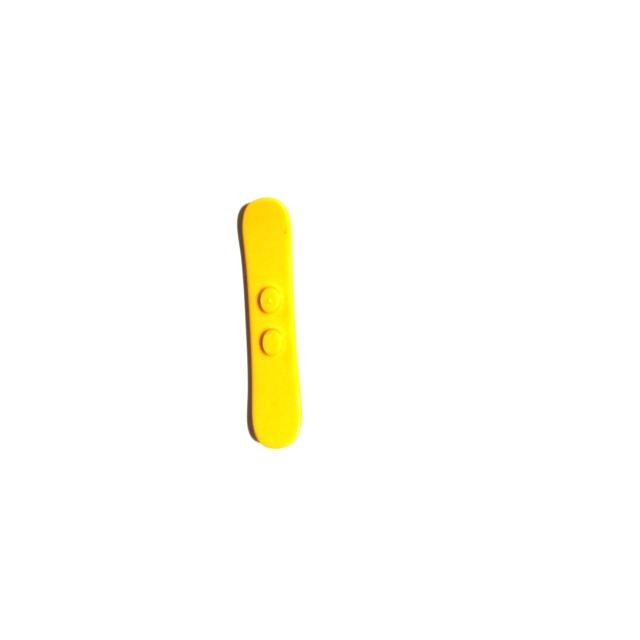Yellow_Medium: (234, 196, 307, 453)
